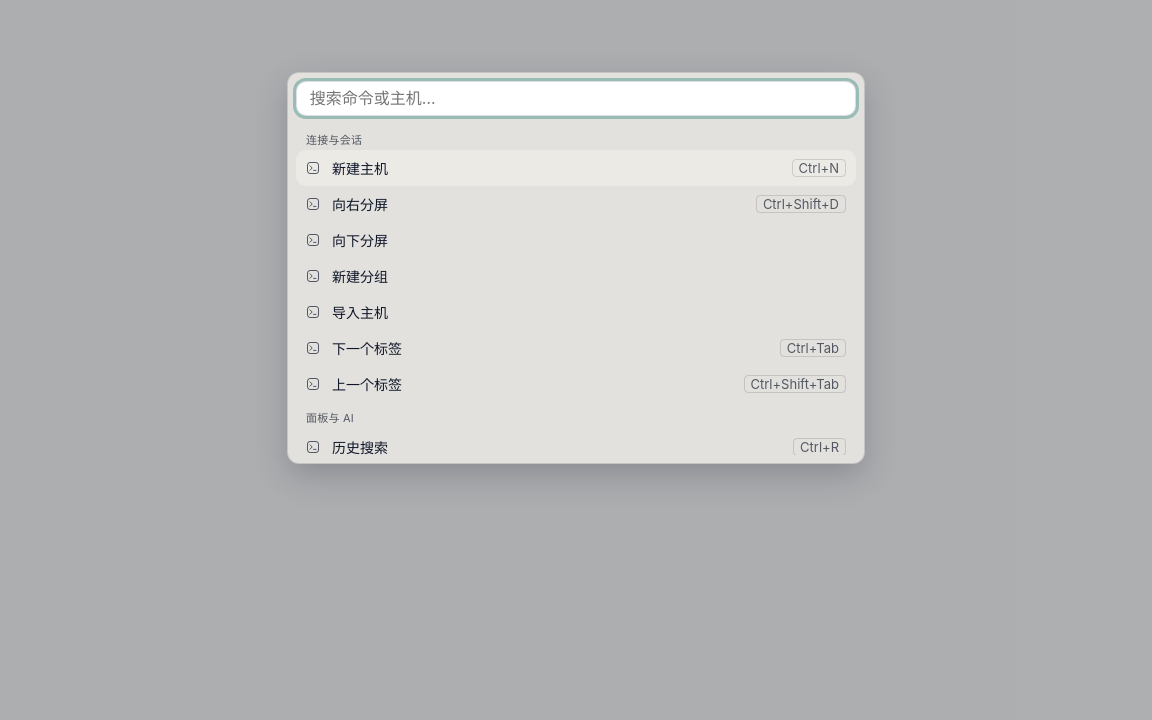
Test: 模糊过滤 + 高亮 › 主机按次字段（地址）命中，不高亮主字段
Step 1. Type "10.0.0.2" into the field with test id "palette-input" → (576, 98), box [296,81,856,116]
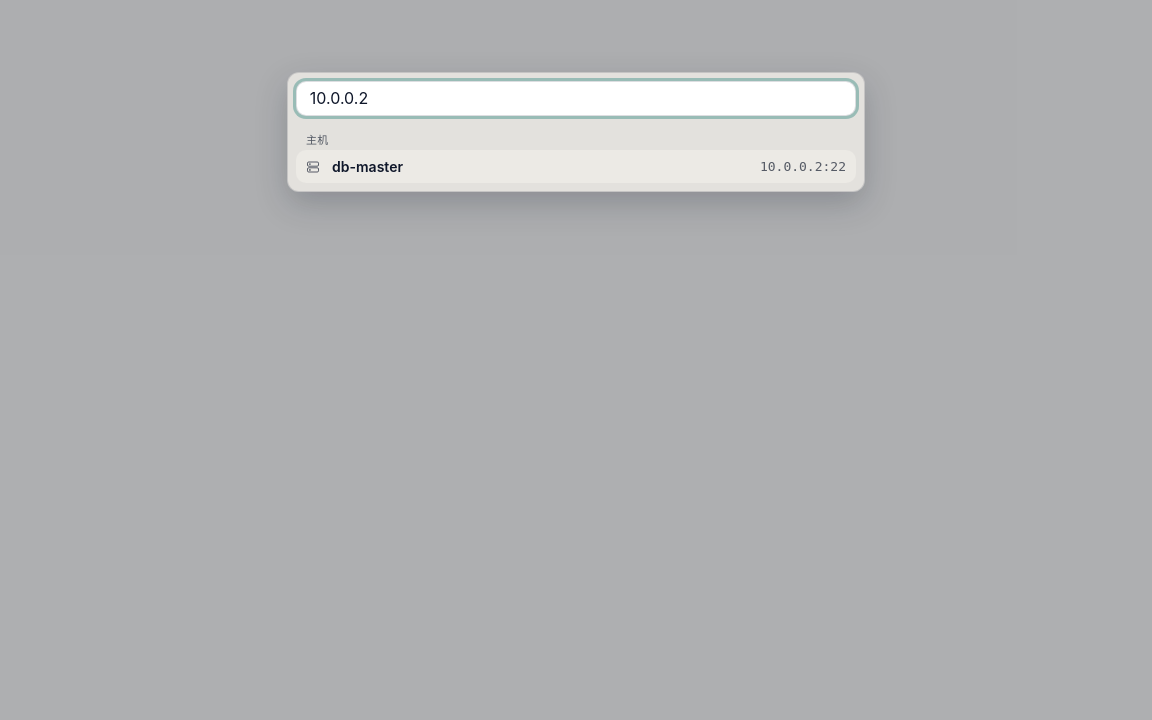
expect the button "db-master 10.0.0.2:22" is shown: met, box [296,150,856,183]
